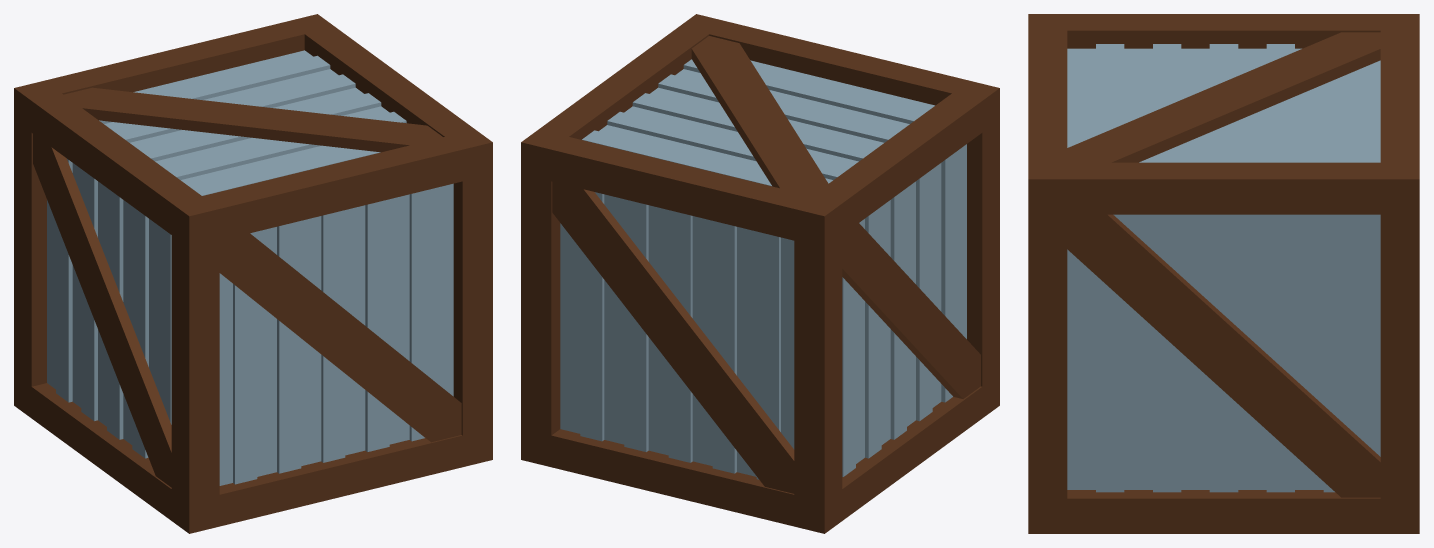
Rendered from genericBox.fbx.
3 views of the same model, side by side, from view 1: azimuth 30°, elevation 25°; view 2: azimuth 150°, elevation 25°; view 3: azimuth 270°, elevation 25° (orthographic). The views are drawn at different scales.
Visible parts, largest first — view 1: Genetric Box; view 2: Genetric Box; view 3: Genetric Box.
Boxes of the visible parts, x1,y1,x2,y2 form: Genetric Box: (14,14,492,533); Genetric Box: (521,14,999,533); Genetric Box: (1028,14,1419,533).
Size of the model in its own units: 200 by 200 by 200.
